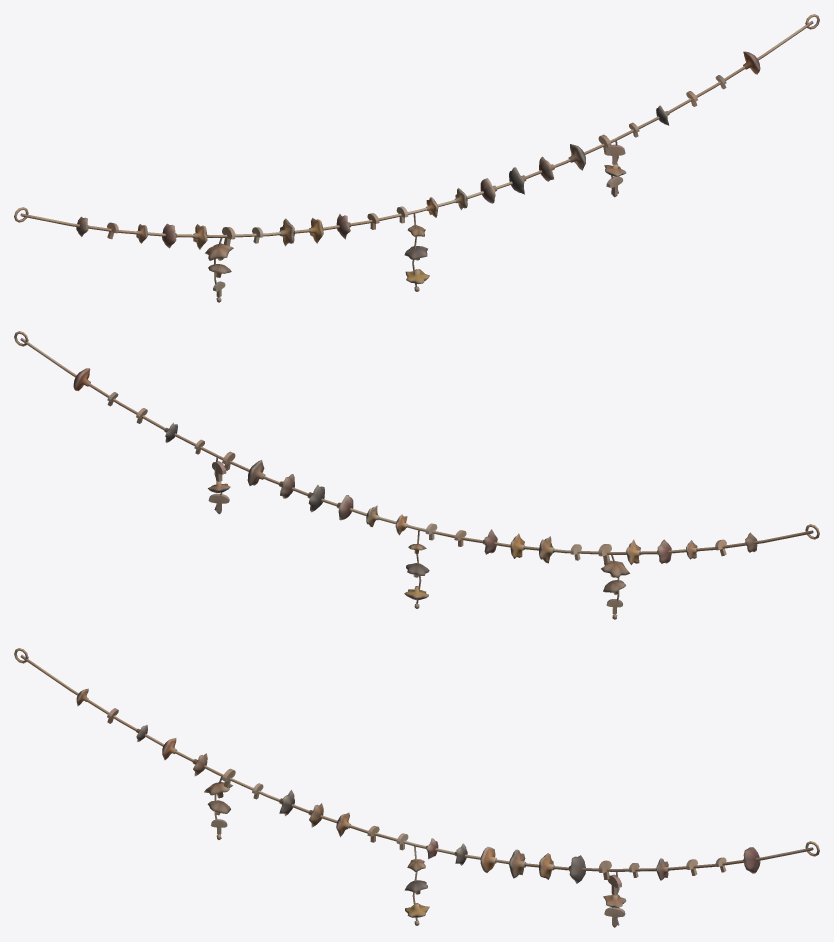
The model's file is mantar_dizisi.glb.
3 renders of one model, top to bottom at view 1: azimuth 30°, elevation 25°; view 2: azimuth 150°, elevation 25°; view 3: azimuth 330°, elevation 25°, orthographic.
Parts seen in each view (by area): view 1: mantar_dizisi_LOD0; view 2: mantar_dizisi_LOD0; view 3: mantar_dizisi_LOD0.
Boxes of the visible parts, <box> form: mantar_dizisi_LOD0: <box>14,14,819,302</box>; mantar_dizisi_LOD0: <box>14,331,819,619</box>; mantar_dizisi_LOD0: <box>14,648,819,927</box>.
Size of what is drawn, in the model's own units: 4.07 by 0.8743 by 0.1358.
